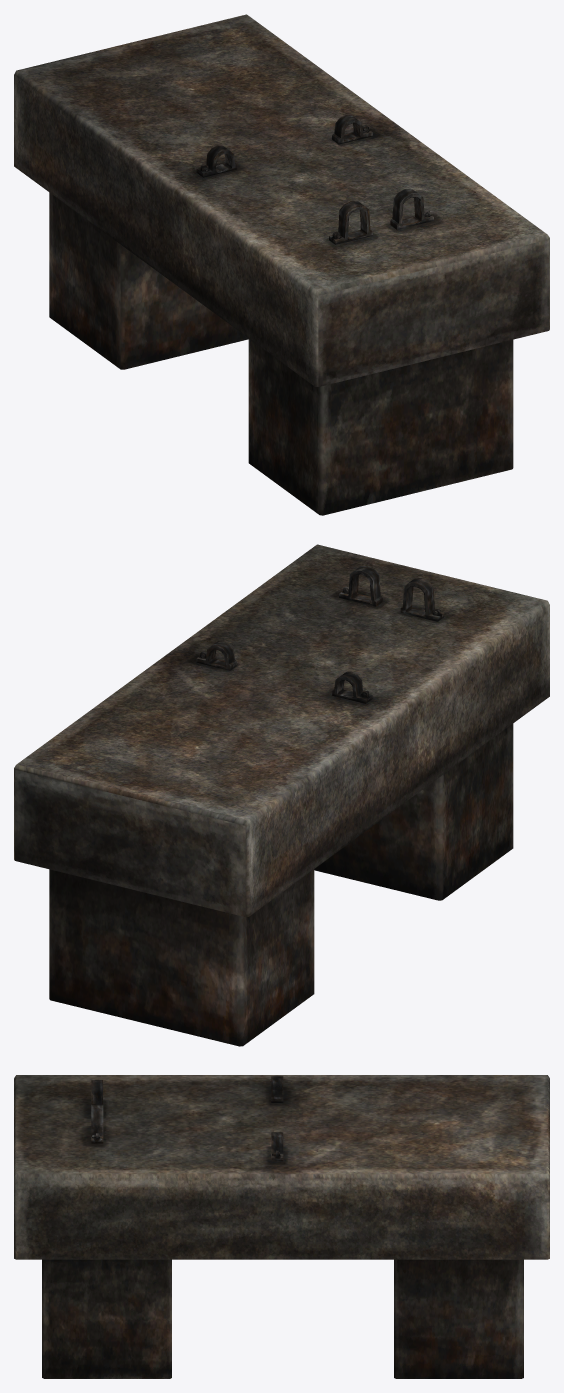
The model's file is stone_table.dae.
3 renders of one model, top to bottom at view 1: azimuth 30°, elevation 25°; view 2: azimuth 150°, elevation 25°; view 3: azimuth 270°, elevation 25°, orthographic. The views are drawn at different scales.
Parts seen in each view (by area): view 1: Scene_Root; view 2: Scene_Root; view 3: Scene_Root.
Part boxes in pixels (x1,y1,x2,y2): Scene_Root: [14, 14, 549, 515]; Scene_Root: [14, 544, 549, 1046]; Scene_Root: [14, 1075, 549, 1378].
Bounding box in the file's own units: 1.02 × 2.28 × 1.13.
